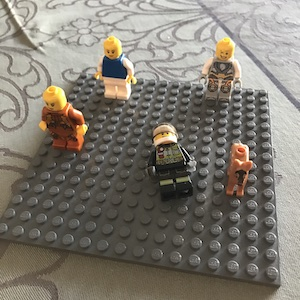Lego: (147, 123, 196, 198), (37, 86, 90, 152), (198, 35, 244, 104), (93, 36, 134, 101)
